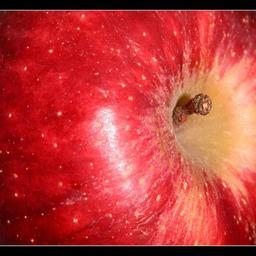apple: (0, 8, 256, 246)
